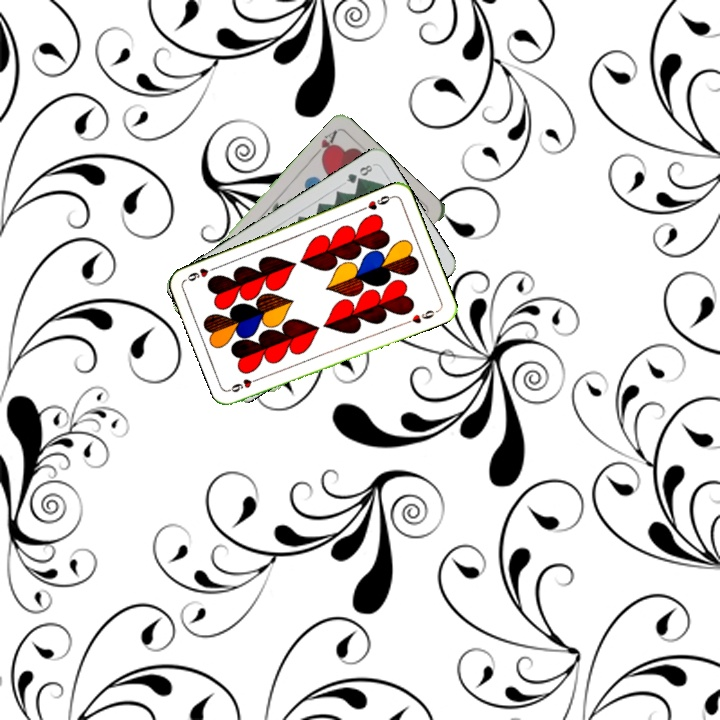G8: (342, 160, 375, 186)
H9: (357, 191, 396, 213), (226, 373, 265, 395)
HA: (309, 125, 340, 163)
